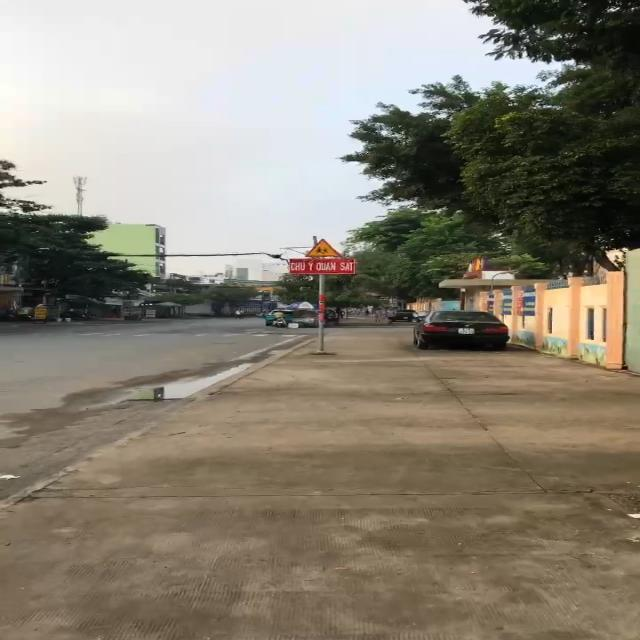Bien bao tre em: (301, 236, 340, 259)
